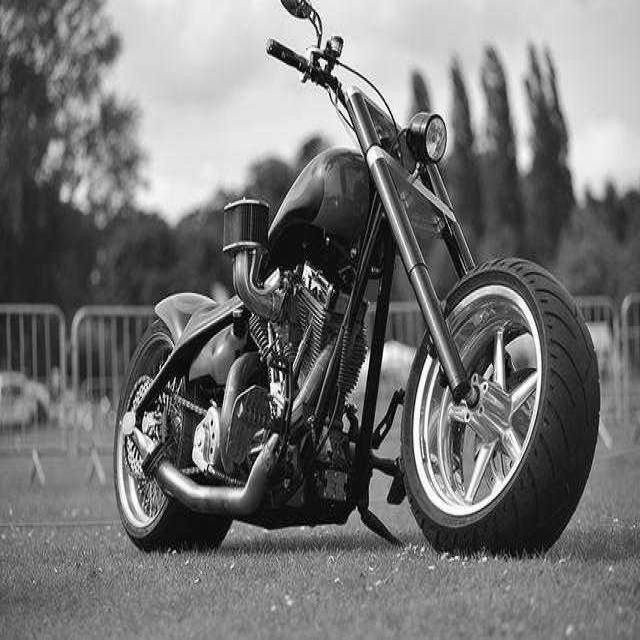Motorcycle: (114, 37, 598, 555)
